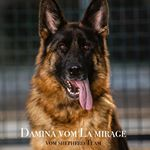puppy: (33, 1, 118, 118)
